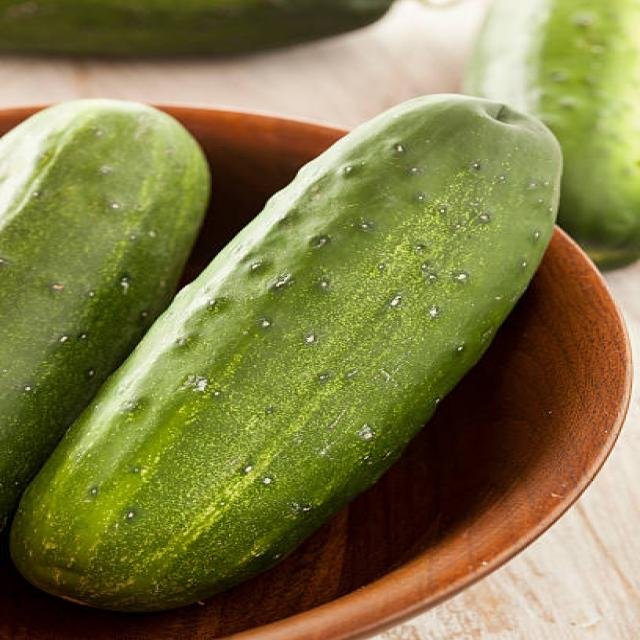cucumber: (1, 93, 565, 605)
